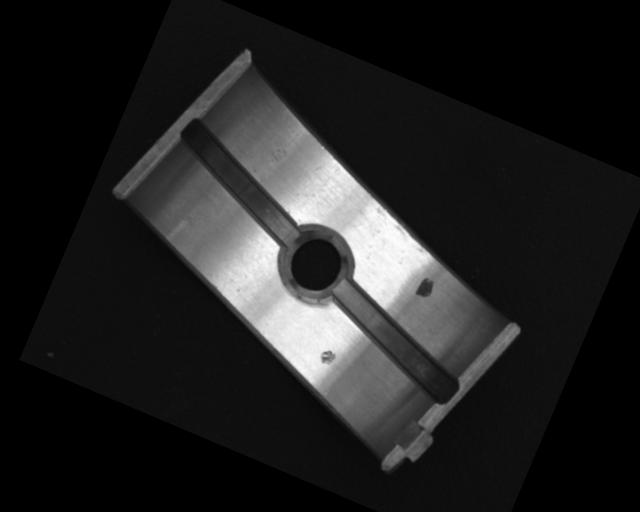blot: (413, 274, 437, 302)
bruise: (317, 347, 339, 369)
gap: (309, 273, 480, 408), (156, 116, 326, 251)
hole: (272, 223, 357, 311)
